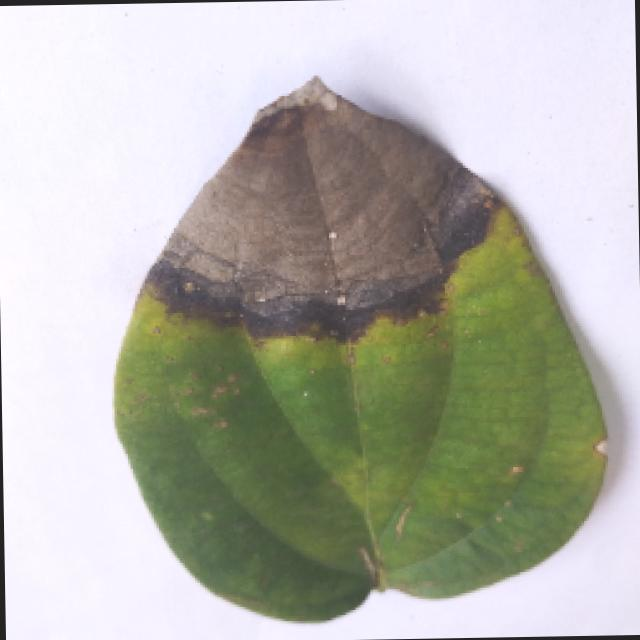footrot: (75, 52, 636, 619)
